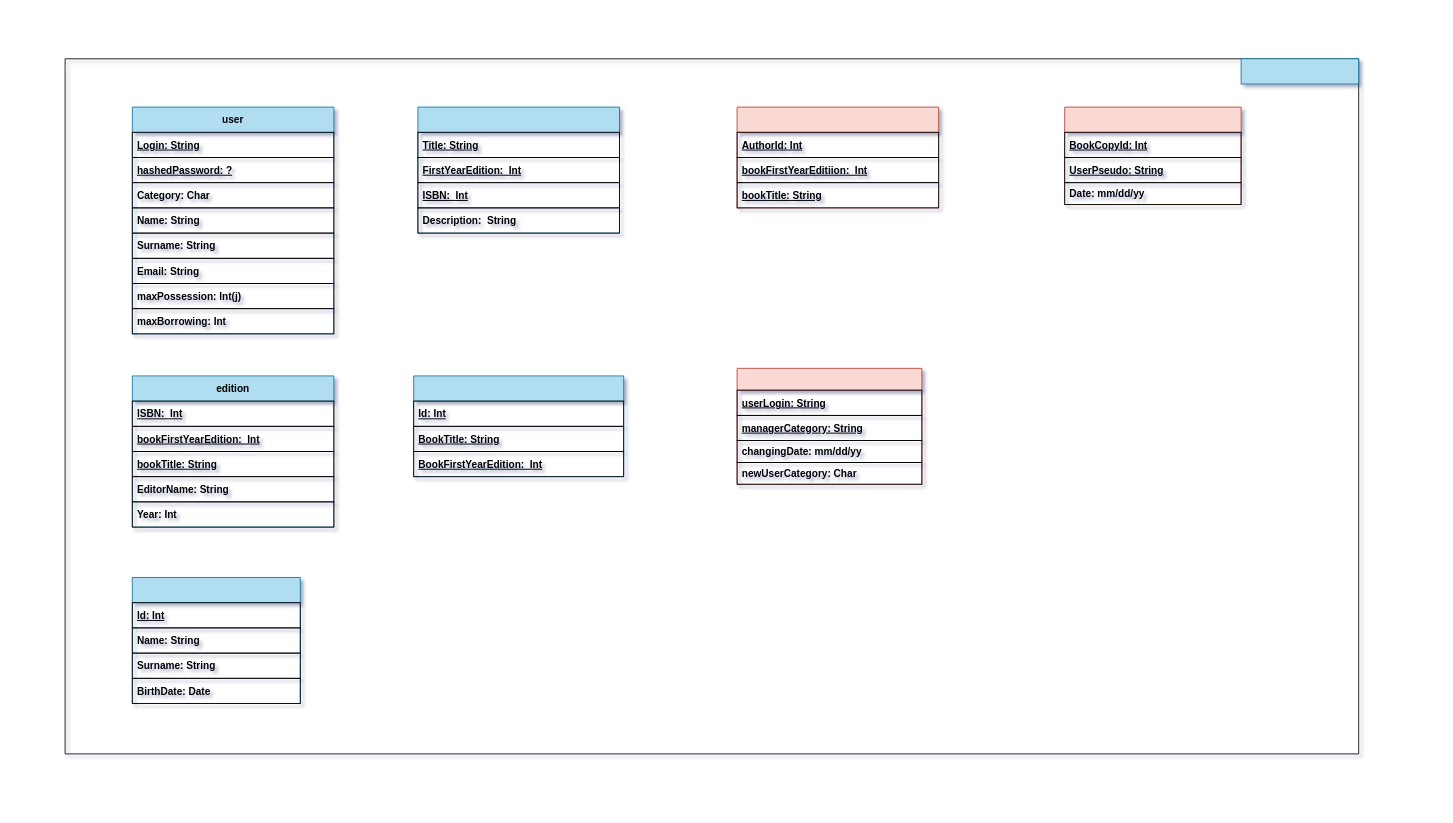
Some shapes in this 1453 by 823 pixel diagram are drawn without their labels. Each missing label, with the box of its shape:
autor: (131, 577, 300, 704)
book: (417, 106, 620, 233)
borrows: (1064, 106, 1241, 205)
ChangeCategory: (736, 368, 922, 484)
copyOfBook: (413, 375, 624, 477)
hasWriten: (736, 106, 939, 208)
Relational modeling: (1240, 58, 1359, 84)
